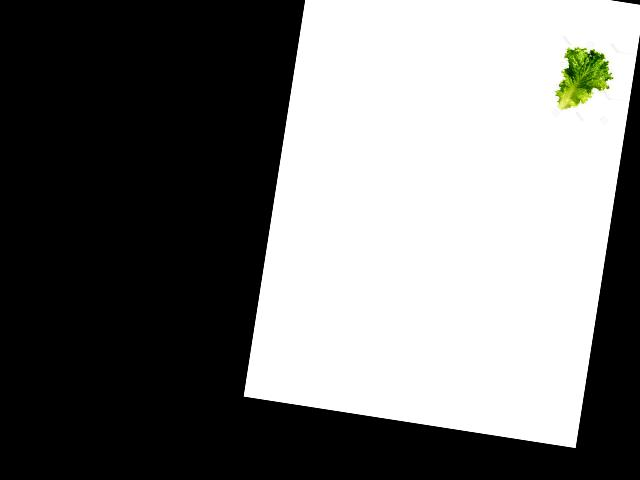lettuce: (555, 44, 616, 117)
